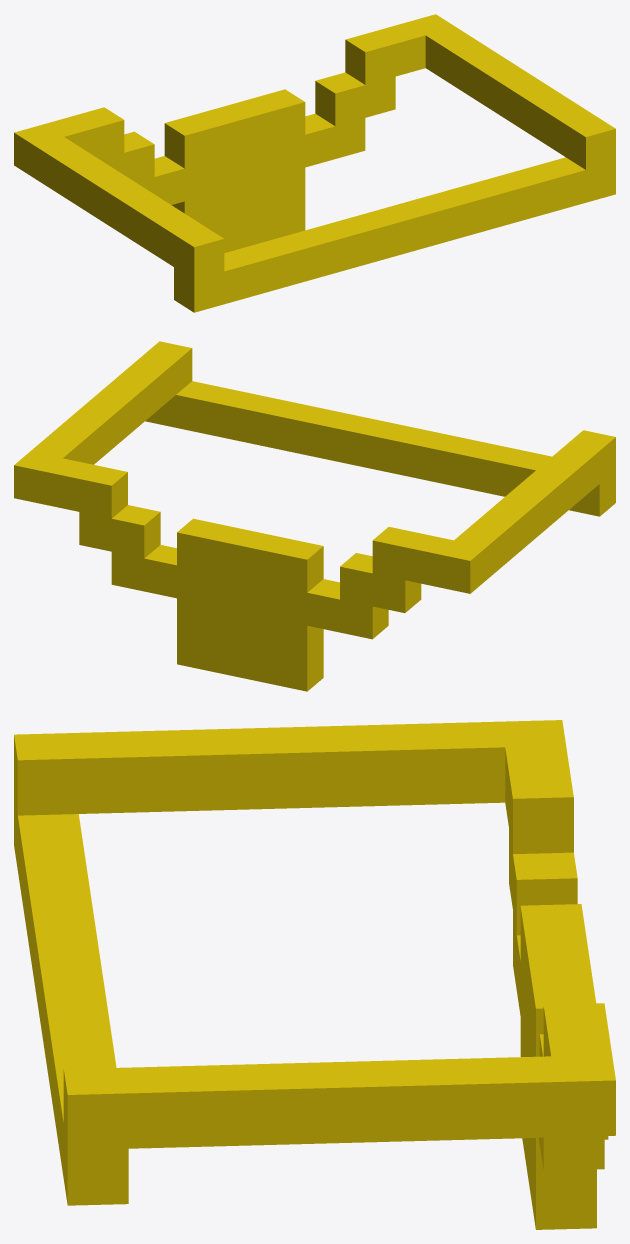
Rendered from chain_button2.gltf.
3 views of the same model, one above another, from view 1: azimuth 30°, elevation 25°; view 2: azimuth 150°, elevation 25°; view 3: azimuth 270°, elevation 25° (orthographic). The views are drawn at different scales.
Visible parts, largest first — view 1: cube_2, cube_7, cube, cube_1, cube_3, cube_5, cube_4, cube_6, cube_10, cube_8, cube_9, cube_11; view 2: cube_7, cube_2, cube, cube_1, cube_3, cube_4, cube_5, cube_9, cube_8, cube_6, cube_10, cube_11; view 3: cube_1, cube, cube_2, cube_7, cube_4, cube_8, cube_11, cube_3, cube_6.
Part boxes in pixels (box(x1,y1,x2,y2)): cube_2: box(224, 157, 585, 304); cube_7: box(164, 89, 305, 252); cube: box(14, 124, 224, 279); cube_1: box(406, 14, 615, 169); cube_3: box(345, 22, 425, 84); cube_5: box(315, 72, 395, 126); cube_4: box(44, 107, 124, 159); cube_6: box(305, 113, 365, 167); cube_10: box(174, 267, 224, 312); cube_8: box(100, 131, 154, 182); cube_9: box(136, 156, 184, 204); cube_11: box(586, 161, 615, 202); cube_7: box(177, 518, 323, 691); cube_2: box(176, 381, 551, 496); cube: box(437, 430, 615, 593); cube_1: box(14, 341, 192, 504); cube_3: box(46, 458, 127, 518); cube_4: box(372, 527, 453, 586); cube_5: box(79, 505, 160, 558); cube_9: box(307, 579, 388, 639); cube_8: box(340, 553, 421, 612); cube_6: box(111, 545, 176, 598); cube_10: box(569, 470, 615, 516); cube_11: box(145, 395, 175, 427); cube_1: box(63, 1054, 615, 1150); cube: box(14, 720, 565, 815); cube_2: box(17, 814, 116, 1177); cube_7: box(520, 904, 596, 1229); cube_4: box(505, 745, 573, 854); cube_8: box(509, 829, 577, 935); cube_11: box(63, 1125, 128, 1205); cube_3: box(543, 1003, 611, 1056); cube_6: box(538, 1137, 604, 1170).
Size of the model in its own units: 0.7342 by 0.2525 by 0.498.
